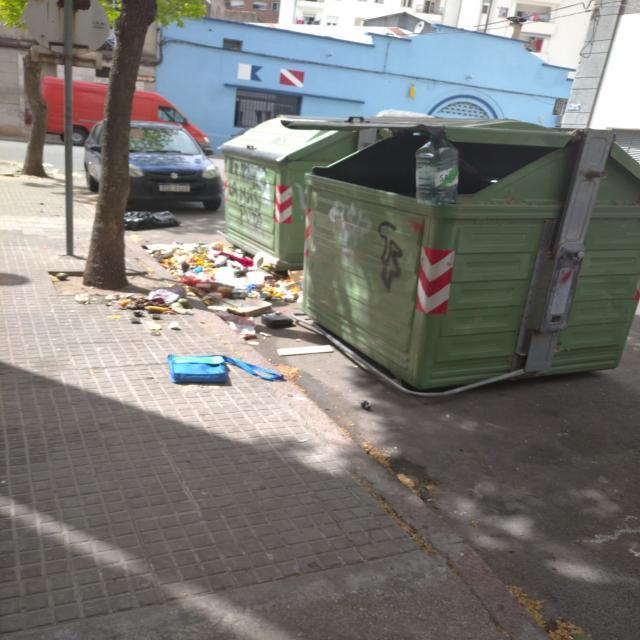garbage: (116, 206, 338, 402), (48, 266, 196, 328)
